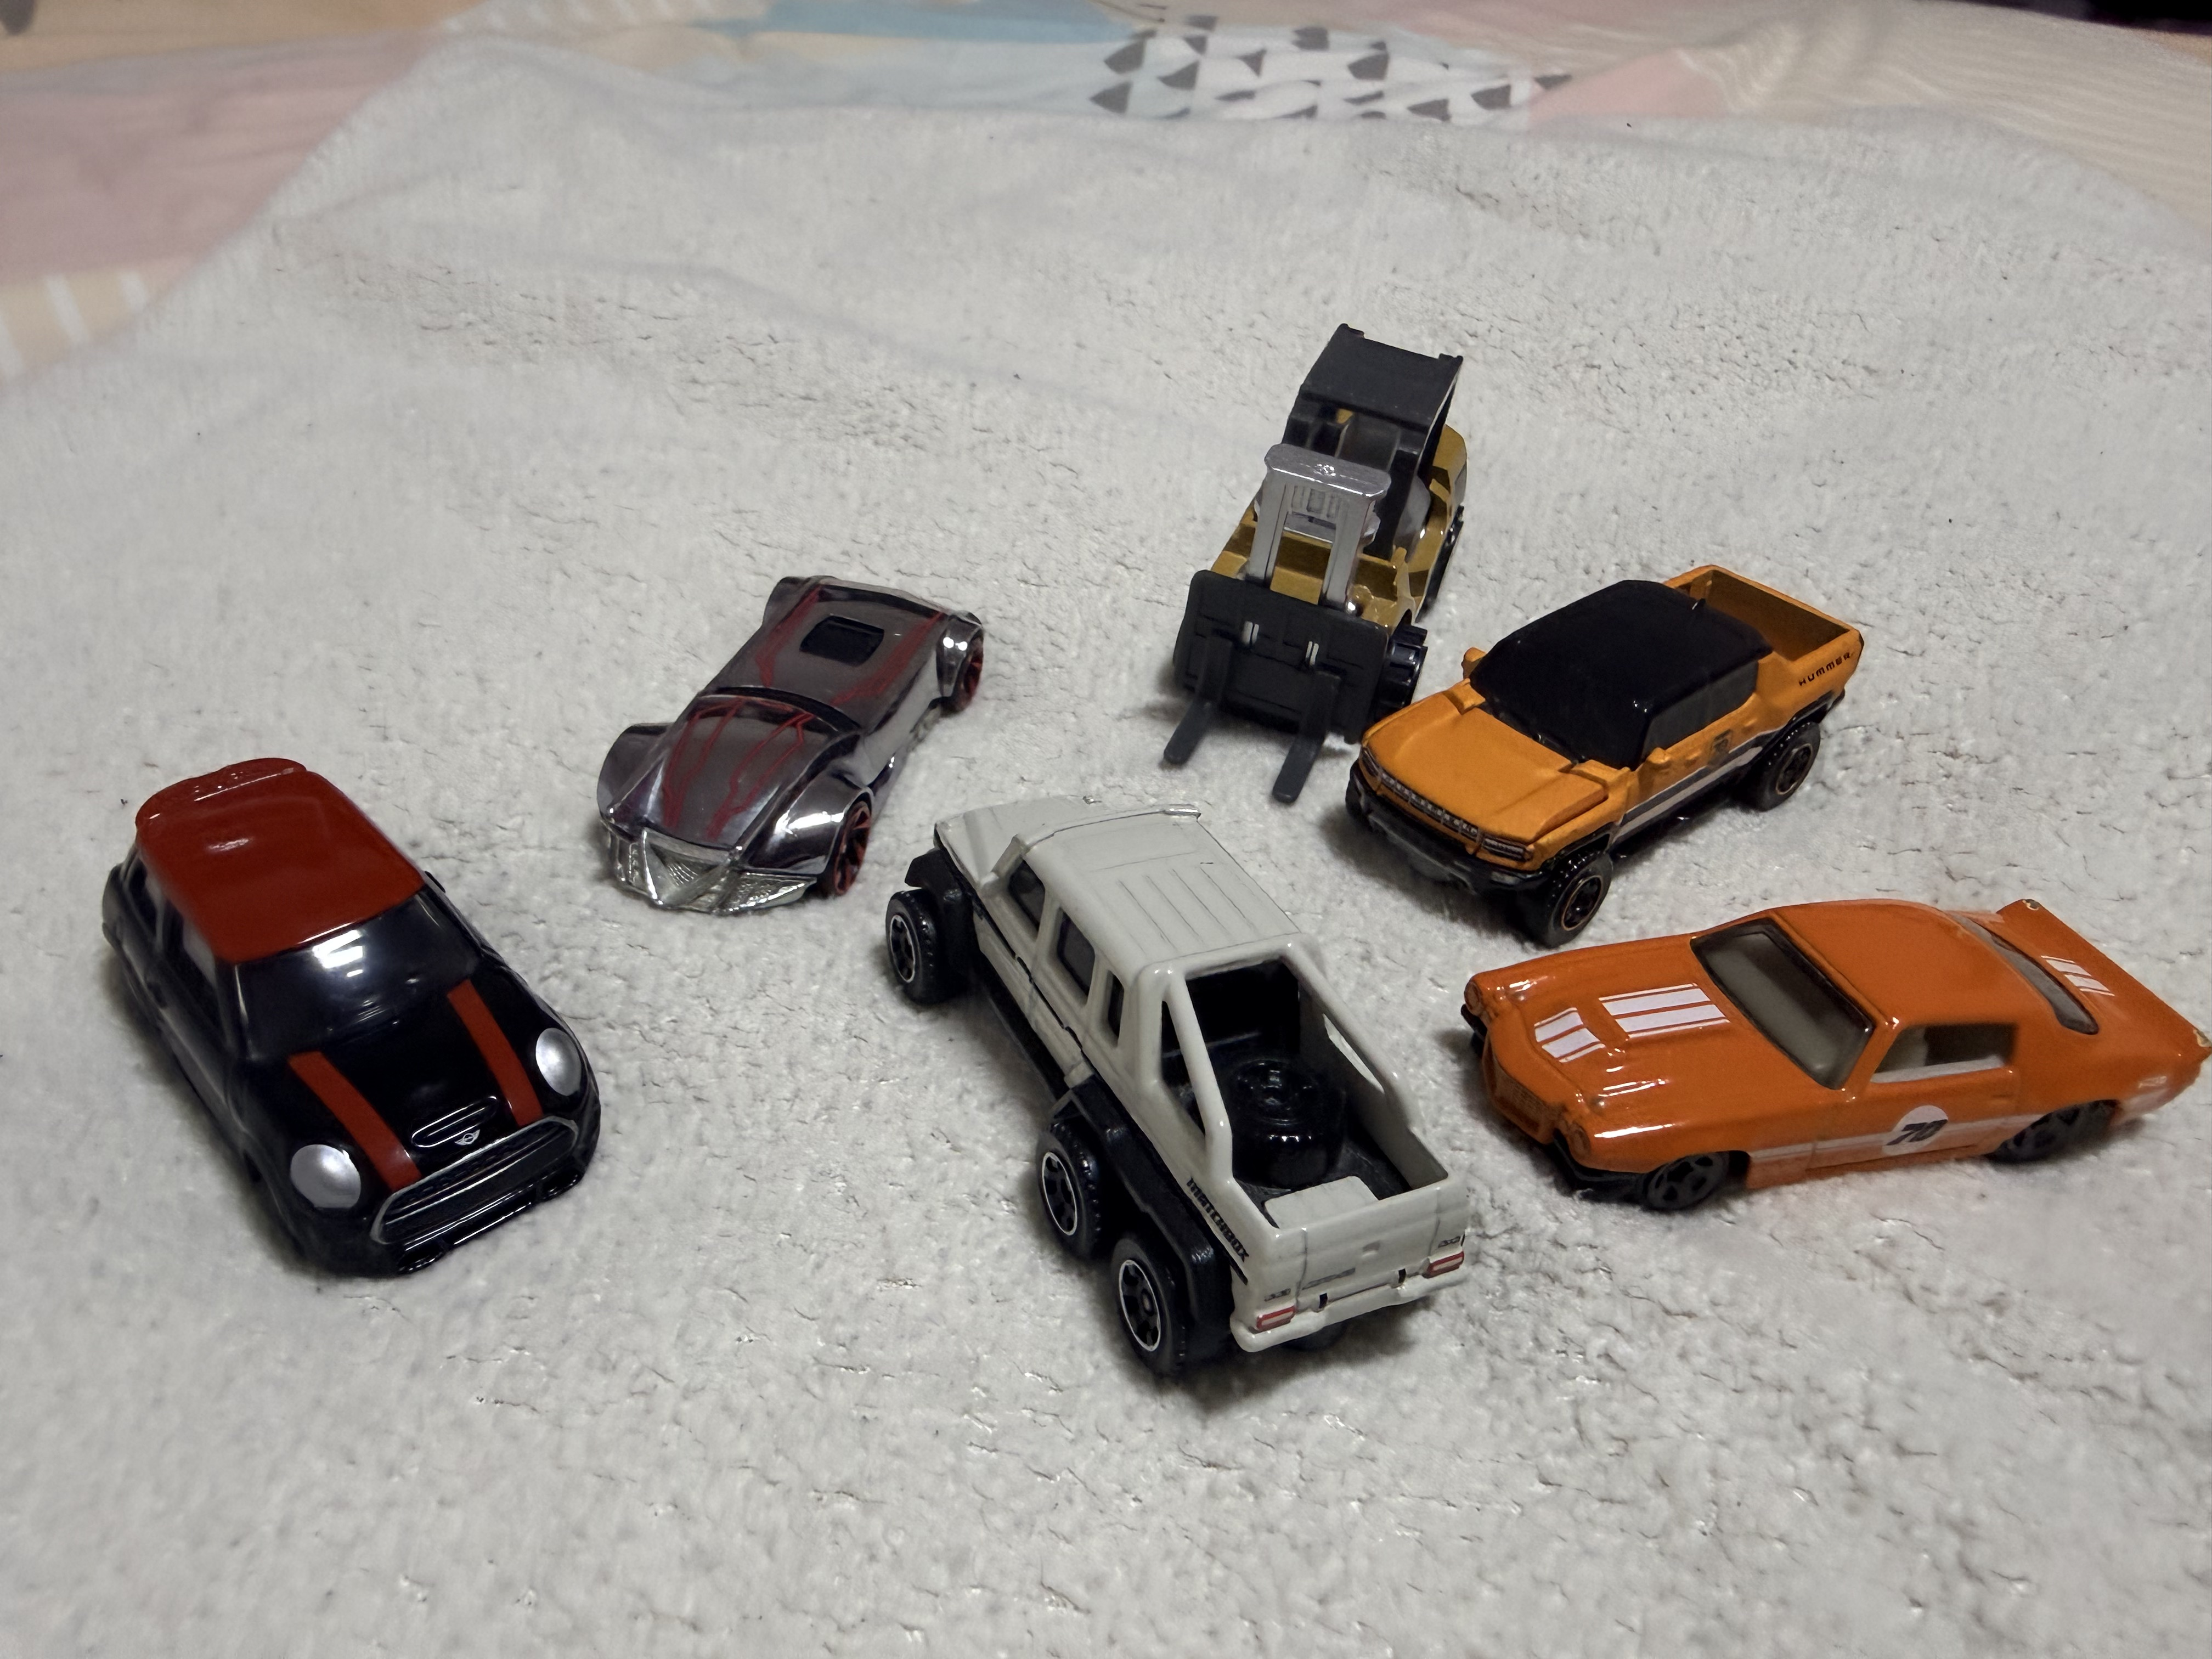camaro_rs: (1460, 897, 2212, 1213)
dc_comics: (596, 572, 986, 918)
forklift: (1160, 324, 1470, 805)
gmc_hummer: (1346, 563, 1864, 946)
mercedes_benz: (885, 791, 1474, 1380)
mini_cooper: (101, 758, 604, 1283)
